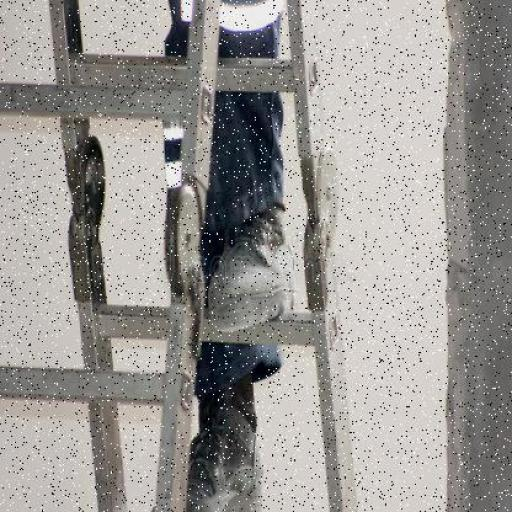safety_shoe: (190, 380, 265, 511), (214, 202, 294, 324)
